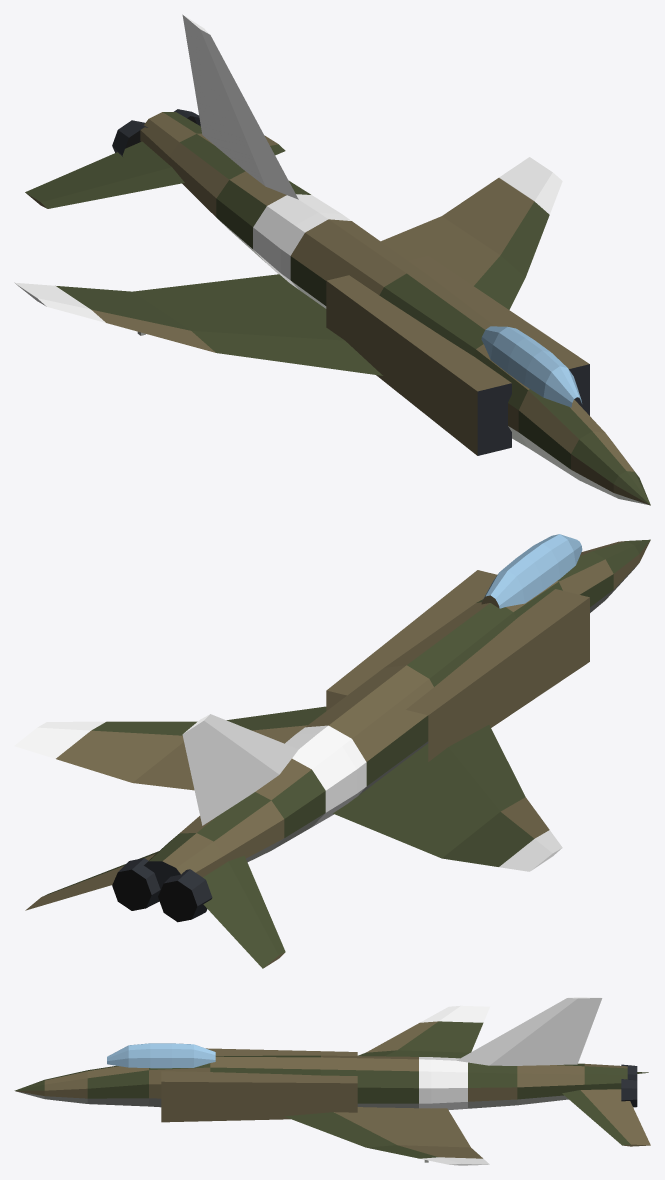
3 views of the same model, one above another, from view 1: azimuth 30°, elevation 25°; view 2: azimuth 150°, elevation 25°; view 3: azimuth 270°, elevation 25° (orthographic). The views are drawn at different scales.
Parts seen in each view (by area): view 1: body; view 2: body; view 3: body.
Part boxes in pixels (left/top/right/bottom): body: left=14, top=14, right=650, bottom=505; body: left=14, top=534, right=650, bottom=968; body: left=14, top=997, right=650, bottom=1165.
Size of the model in its own units: 11.7 by 3.91 by 19.93.
